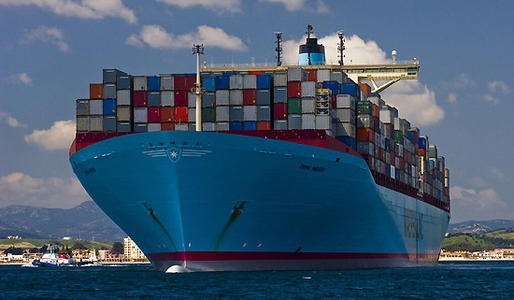Cargoship: (58, 34, 464, 273)
